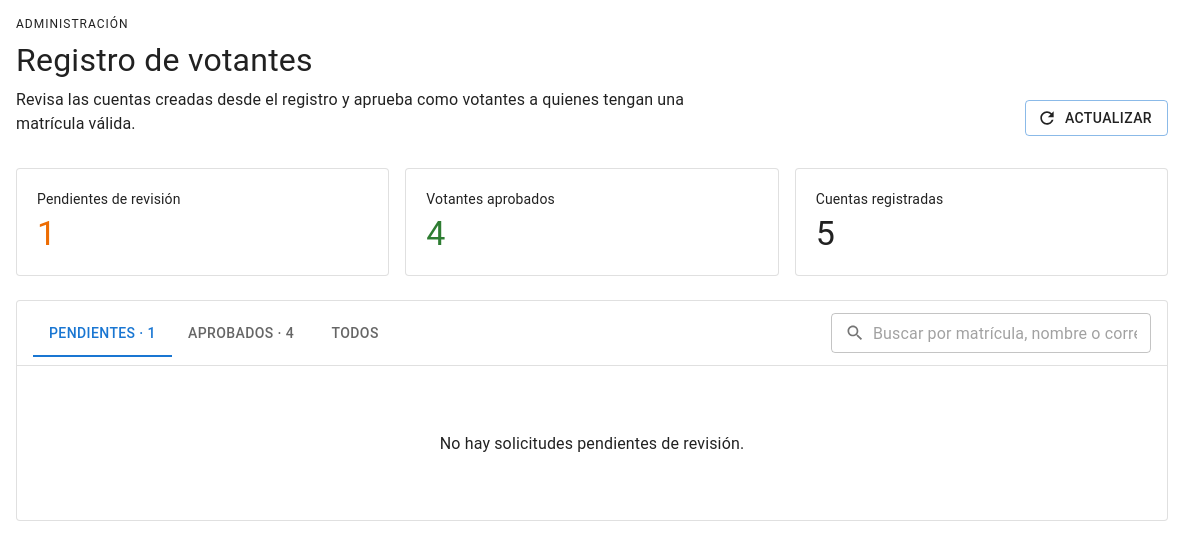
Scenario: AdminVotersPage › al cambiar a «Aprobados» consulta con ese filtro
Click the tab "Aprobados · 4": click(241, 333) [172, 309, 310, 357]
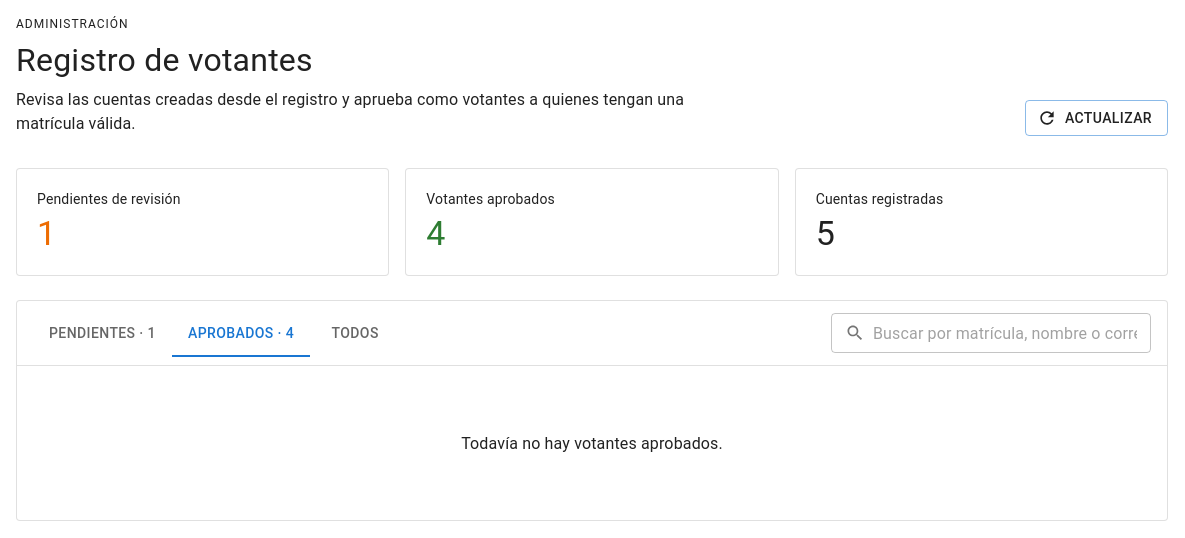
Result: the text "Todavía no hay votantes aprobados." is shown at [461, 434, 723, 453]
